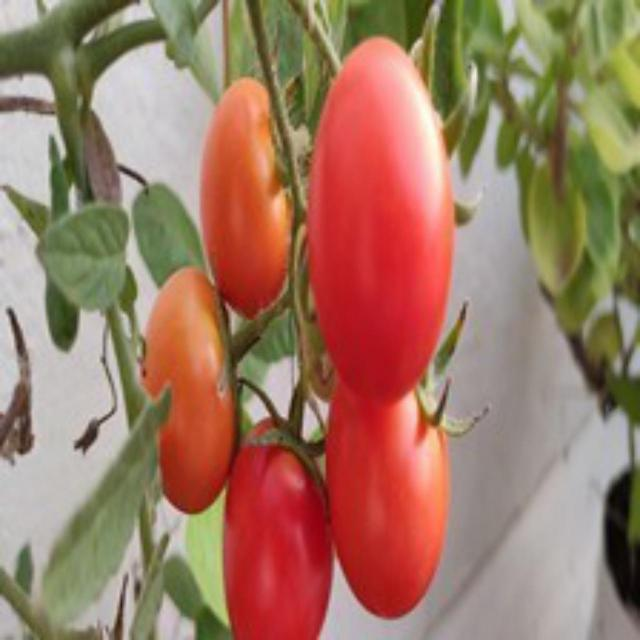tomato: (294, 24, 468, 402), (315, 367, 465, 620), (217, 420, 348, 637), (192, 79, 312, 311), (138, 264, 248, 516)
